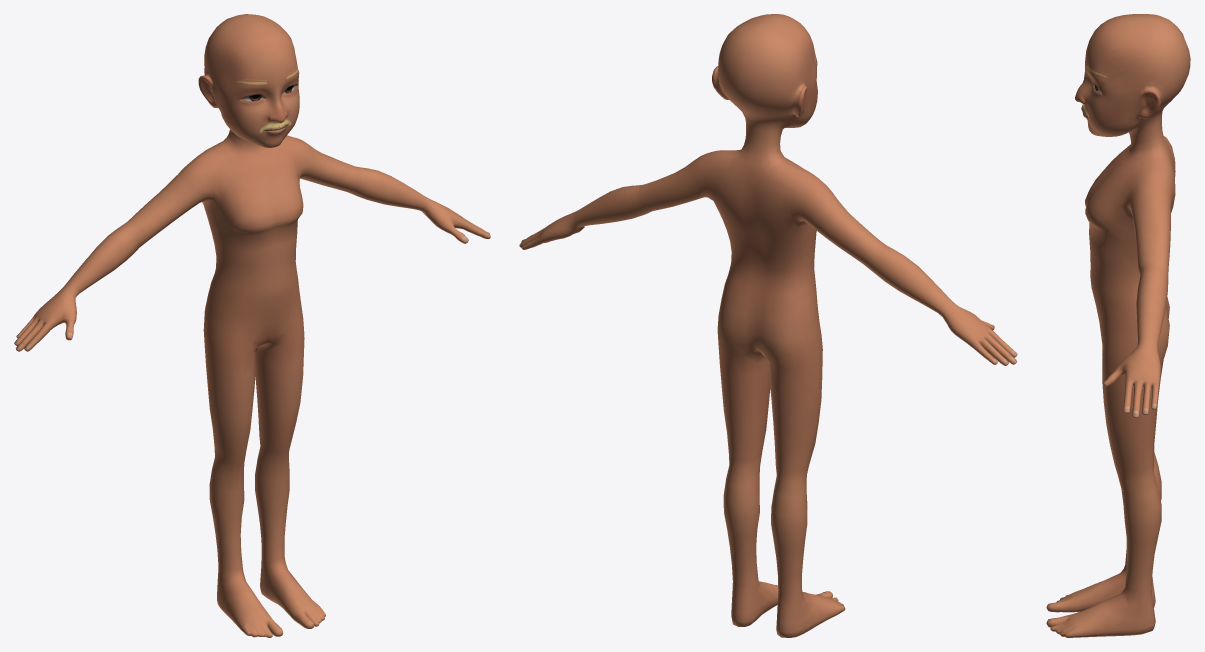
Rendered from frame_0015.glb.
3 renders of one model, left to right at view 1: azimuth 30°, elevation 25°; view 2: azimuth 150°, elevation 25°; view 3: azimuth 270°, elevation 25°, orthographic. The views are drawn at different scales.
Visible parts, largest first — view 1: frame_0015_head_geo; view 2: frame_0015_head_geo; view 3: frame_0015_head_geo.
Boxes of the visible parts, box(x1,y1,x2,y2) form: frame_0015_head_geo: box(14, 14, 490, 637); frame_0015_head_geo: box(519, 14, 1017, 637); frame_0015_head_geo: box(1046, 14, 1190, 637).
Size of the model in its own units: 1.28 by 1.5 by 0.3253.
Materials: 3 (3 with a texture image).
